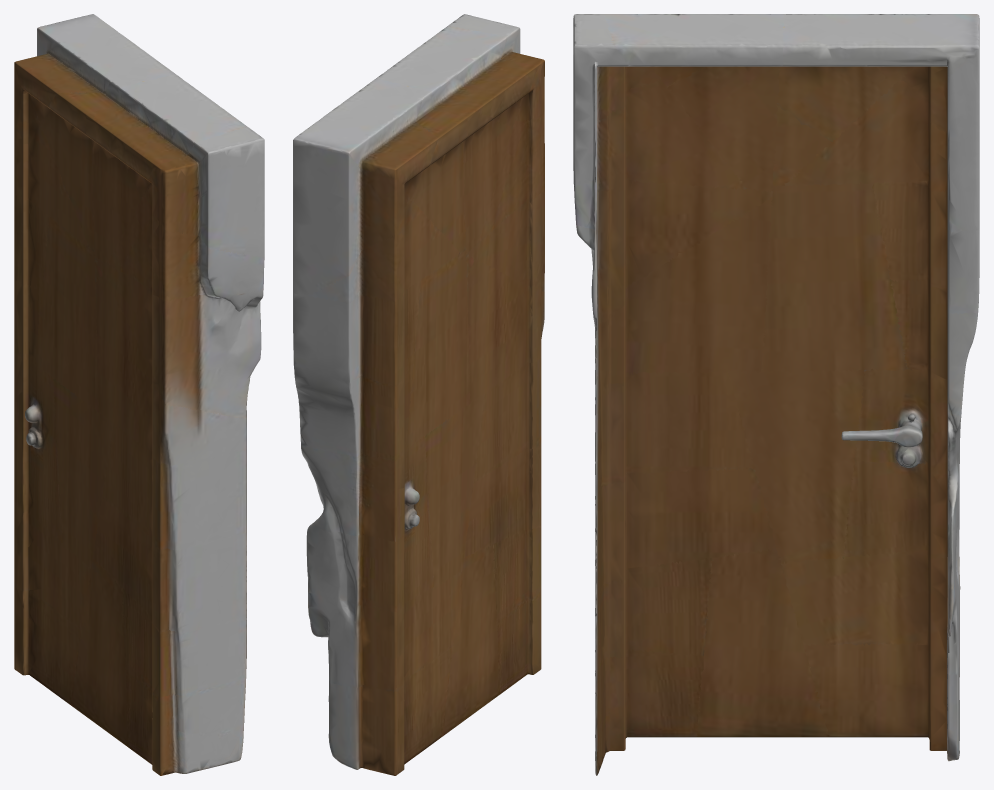
File: 木质房门.glb
3 views of the same model, side by side, from view 1: azimuth 30°, elevation 25°; view 2: azimuth 150°, elevation 25°; view 3: azimuth 270°, elevation 25° (orthographic). The views are drawn at different scales.
Parts seen in each view (by area): view 1: tripo_node_752d50d6-d9ce-4566-854a-189225fb846a; view 2: tripo_node_752d50d6-d9ce-4566-854a-189225fb846a; view 3: tripo_node_752d50d6-d9ce-4566-854a-189225fb846a.
Part boxes in pixels (<box>): tripo_node_752d50d6-d9ce-4566-854a-189225fb846a: <box>14,14,264,775</box>; tripo_node_752d50d6-d9ce-4566-854a-189225fb846a: <box>293,14,544,775</box>; tripo_node_752d50d6-d9ce-4566-854a-189225fb846a: <box>573,14,979,775</box>.
Size of the model in its own units: 0.1694 by 1 by 0.4977.
Materials: 1 (1 with a texture image).
